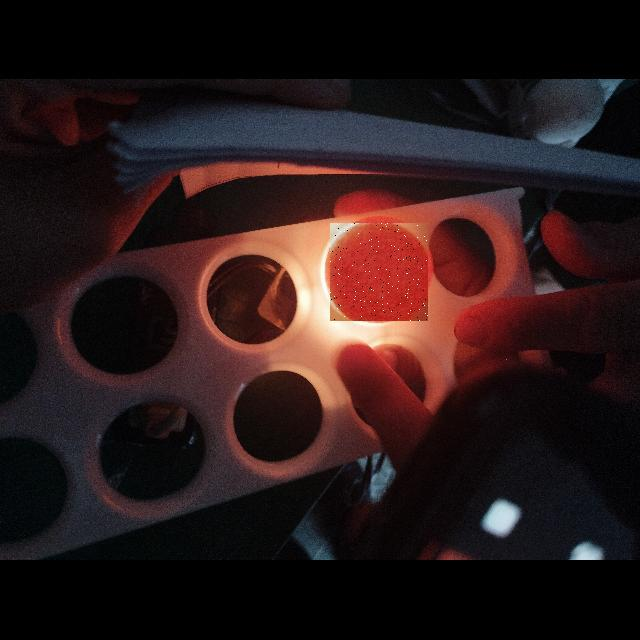Infertile: (330, 223, 428, 321)
